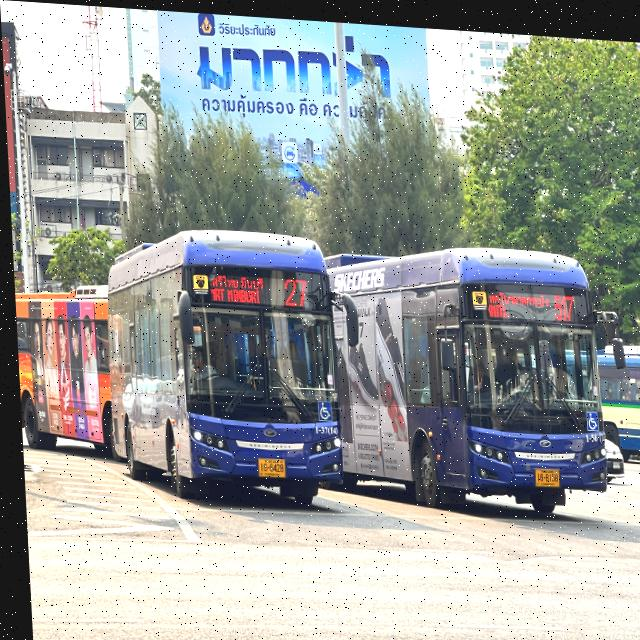BMTA-bus: (11, 282, 111, 455)
Bus-Line-Number: (277, 269, 308, 307), (548, 283, 575, 316)
Destination-Sign-Normal: (204, 267, 267, 307), (482, 280, 548, 316)
TSB-Bus: (324, 231, 620, 514), (97, 220, 343, 505)
